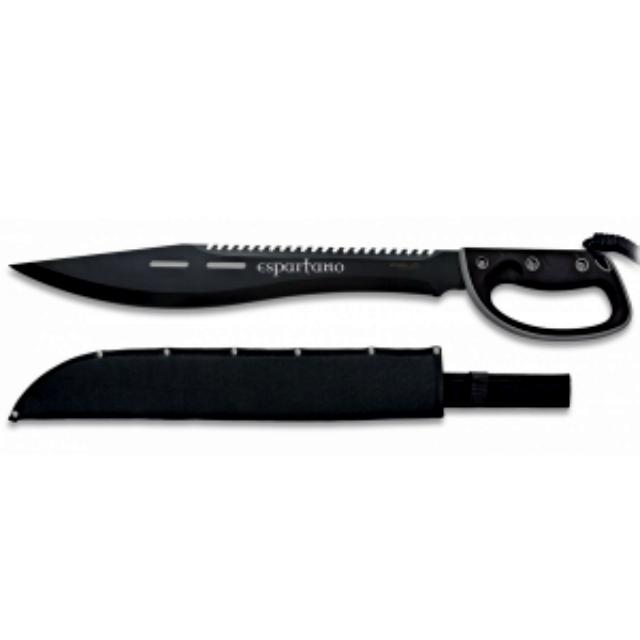long knife: (18, 240, 622, 442)
